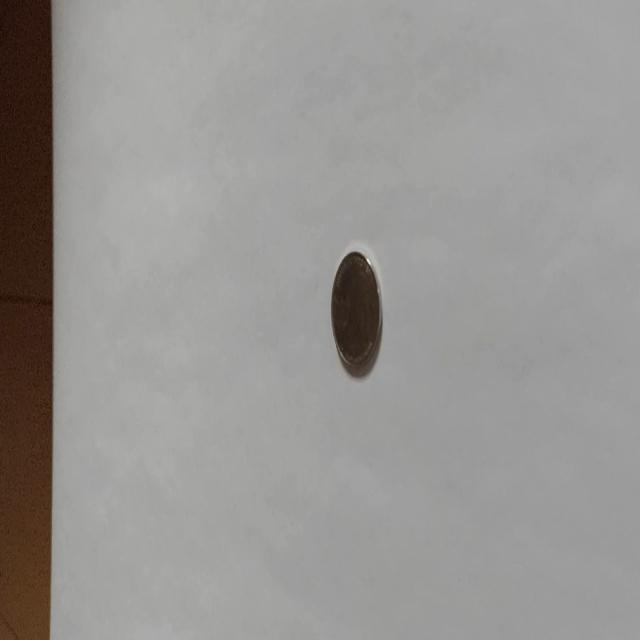seribu rupiah koin: (330, 247, 382, 377)
